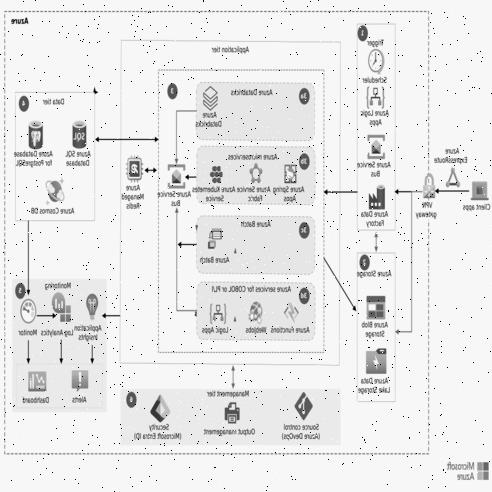actor: (473, 180, 488, 203)
compute: (200, 86, 219, 110), (205, 224, 224, 248), (368, 49, 384, 75), (368, 187, 384, 213), (368, 86, 384, 106), (283, 164, 299, 184), (206, 164, 222, 184), (285, 303, 301, 323), (210, 303, 226, 323), (247, 164, 262, 184), (247, 303, 262, 323)
data_flow: (323, 256, 356, 312), (410, 191, 413, 332), (28, 203, 31, 295), (176, 248, 180, 312), (60, 330, 64, 367), (99, 138, 158, 140), (91, 330, 94, 367), (26, 330, 29, 367), (186, 110, 188, 162), (374, 229, 378, 252), (392, 190, 420, 193), (179, 242, 197, 246), (330, 190, 353, 193), (186, 176, 203, 180), (396, 330, 412, 334), (434, 190, 454, 193), (464, 190, 480, 193), (38, 314, 54, 317), (143, 168, 158, 171), (232, 367, 235, 382), (107, 314, 121, 317), (188, 110, 200, 113)
database_storage: (46, 177, 65, 203), (367, 296, 386, 319), (367, 348, 386, 370), (72, 120, 88, 146), (28, 120, 44, 146), (128, 156, 143, 183)
network_security: (296, 394, 316, 420), (71, 367, 90, 392), (26, 367, 45, 392), (152, 394, 170, 420), (444, 168, 463, 192), (420, 172, 436, 200), (84, 292, 101, 318), (19, 292, 36, 318), (54, 292, 70, 318), (226, 396, 242, 419), (368, 136, 384, 156), (170, 164, 186, 184)
trust_boundary: (4, 8, 430, 456), (120, 41, 340, 366), (12, 279, 108, 408), (122, 386, 342, 442), (16, 92, 95, 221)
